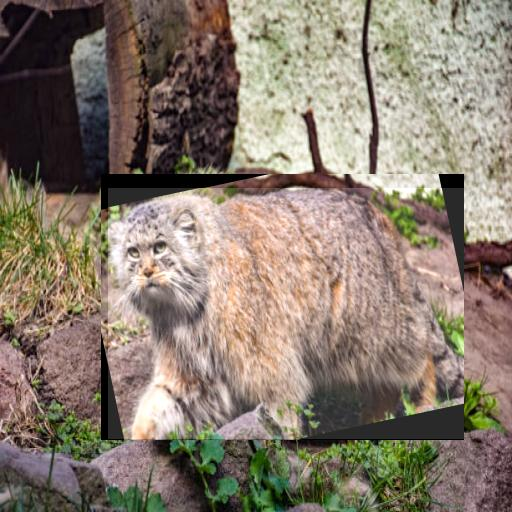manul: (108, 188, 464, 439)
